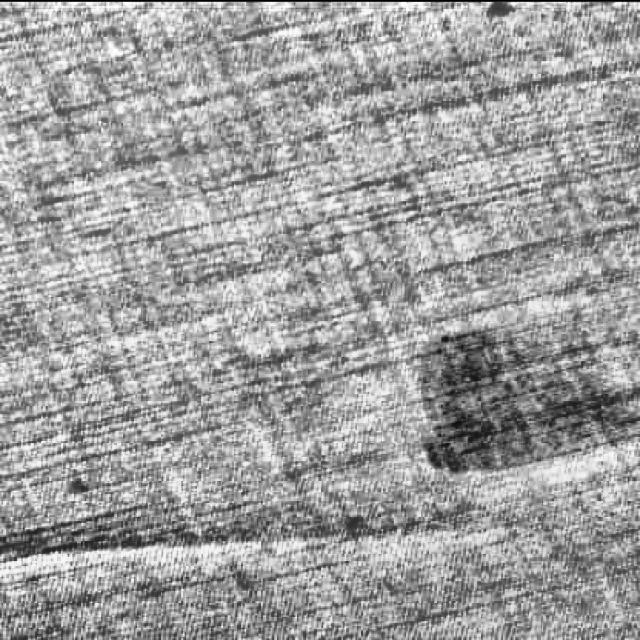oil_spot: (402, 306, 640, 491)
